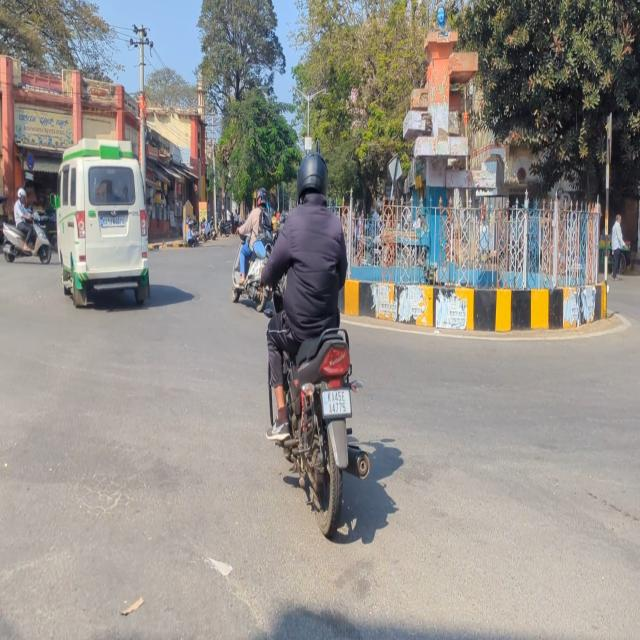bien_cam: (25, 152, 36, 170)
